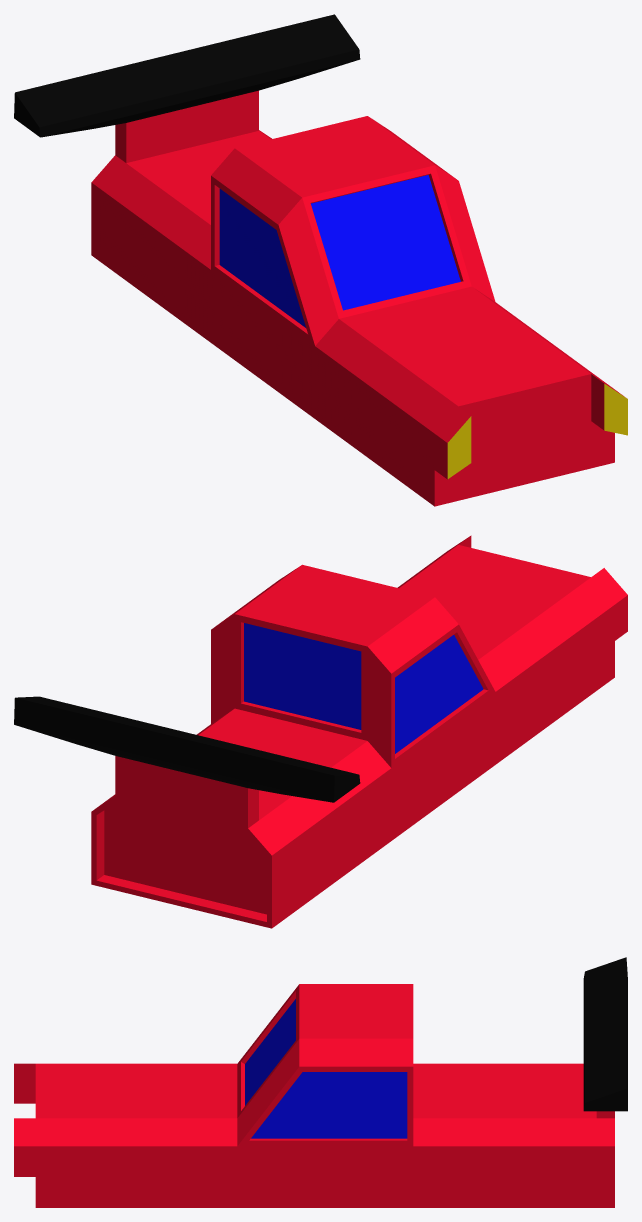
The model's file is Elias_carbody.glb.
3 renders of one model, top to bottom at view 1: azimuth 30°, elevation 25°; view 2: azimuth 150°, elevation 25°; view 3: azimuth 270°, elevation 25°, orthographic. The views are drawn at different scales.
Parts seen in each view (by area): view 1: Cube; view 2: Cube; view 3: Cube.
Boxes of the visible parts, <box> form: Cube: <box>14,14,627,506</box>; Cube: <box>14,535,627,928</box>; Cube: <box>14,957,627,1207</box>.
Bounding box in the file's own units: 3.55 × 2 × 6.98.
